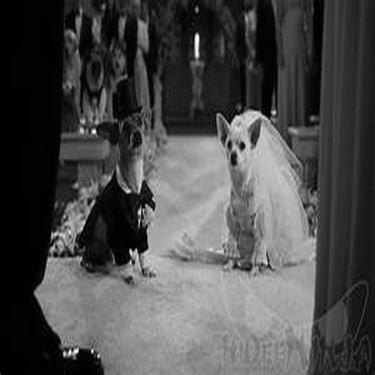dog: (195, 102, 313, 288), (74, 102, 169, 290)
